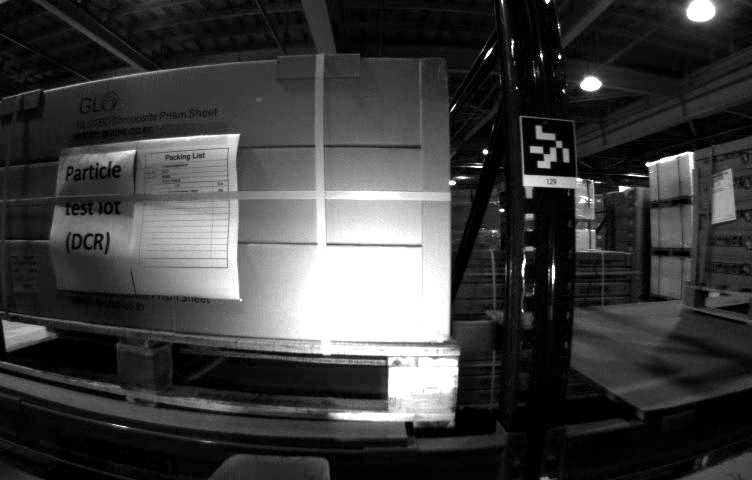True Barcode: (9, 253, 41, 296)
